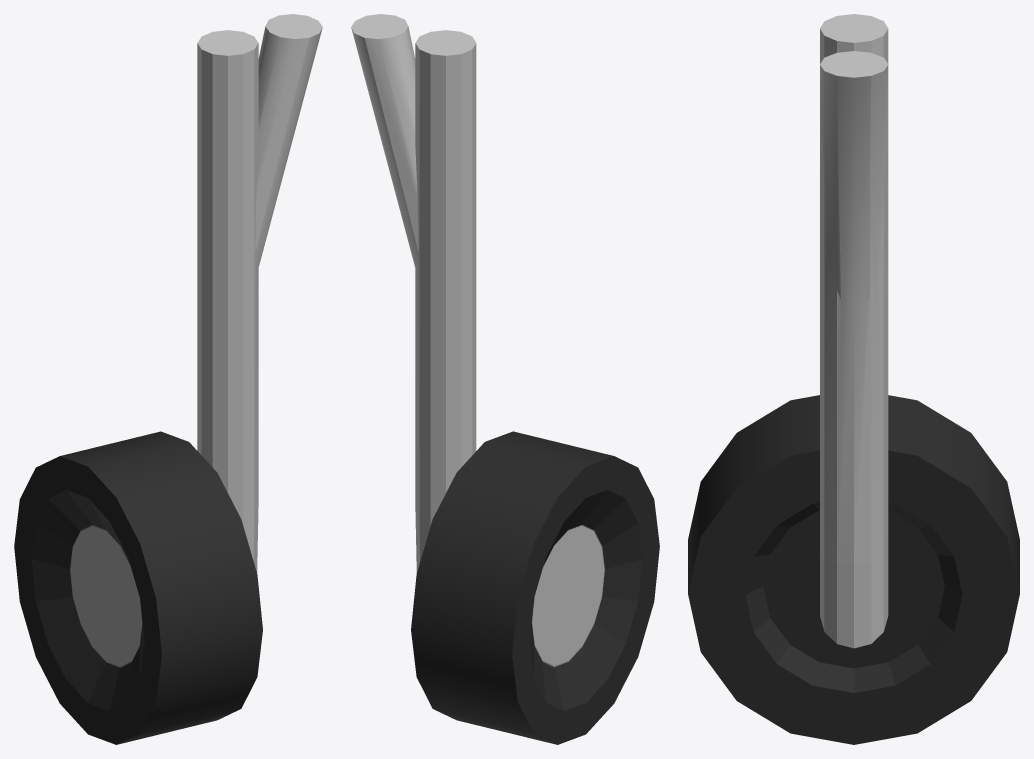
File: LandingGear_Back.fbx
3 views of the same model, side by side, from view 1: azimuth 30°, elevation 25°; view 2: azimuth 150°, elevation 25°; view 3: azimuth 270°, elevation 25° (orthographic). The views are drawn at different scales.
Visible parts, largest first — view 1: LandingGear_Back_Wheel, LandingGear_Back_Body; view 2: LandingGear_Back_Wheel, LandingGear_Back_Body; view 3: LandingGear_Back_Wheel, LandingGear_Back_Body.
Part boxes in pixels (<box>): LandingGear_Back_Wheel: <box>14,431,262,744</box>; LandingGear_Back_Body: <box>197,14,322,572</box>; LandingGear_Back_Wheel: <box>411,431,659,744</box>; LandingGear_Back_Body: <box>351,14,476,573</box>; LandingGear_Back_Wheel: <box>688,395,1019,744</box>; LandingGear_Back_Body: <box>820,14,888,648</box>.
Bounding box in the file's own units: 16.7 × 45.54 × 18.55.
